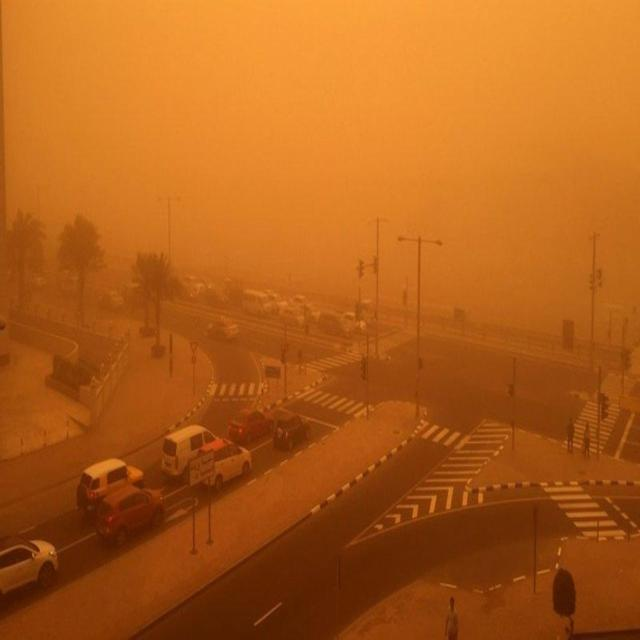Car: (76, 454, 146, 516), (0, 530, 58, 603), (95, 484, 163, 546), (195, 437, 252, 492), (228, 408, 274, 444), (275, 415, 309, 448), (206, 314, 238, 344), (180, 272, 204, 296), (99, 288, 124, 310), (343, 312, 367, 334), (288, 294, 309, 313)
Van: (161, 423, 225, 482), (242, 288, 270, 319)
